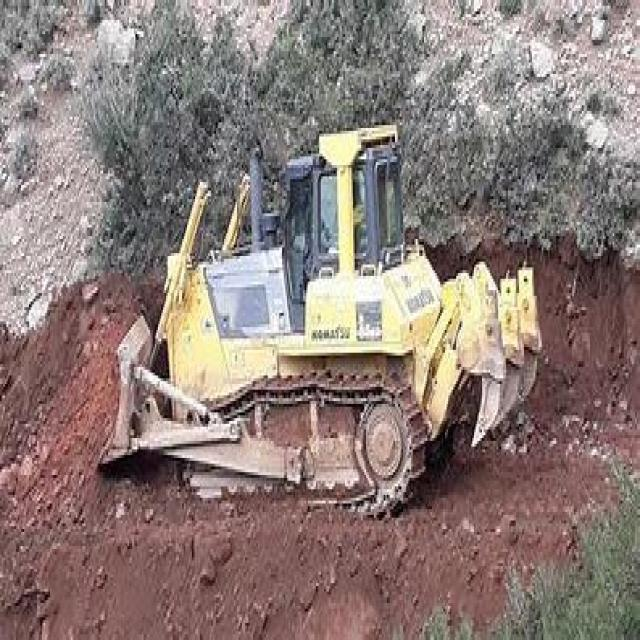Bulldozer: (108, 102, 558, 526)
